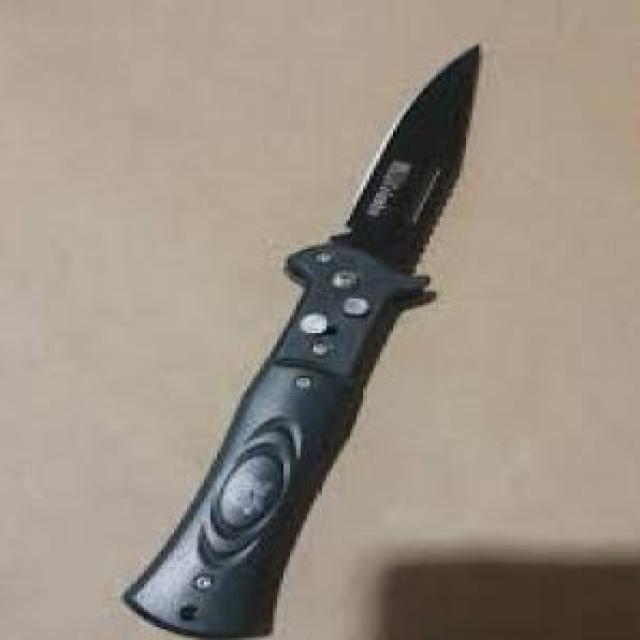knife: (124, 32, 490, 640)
